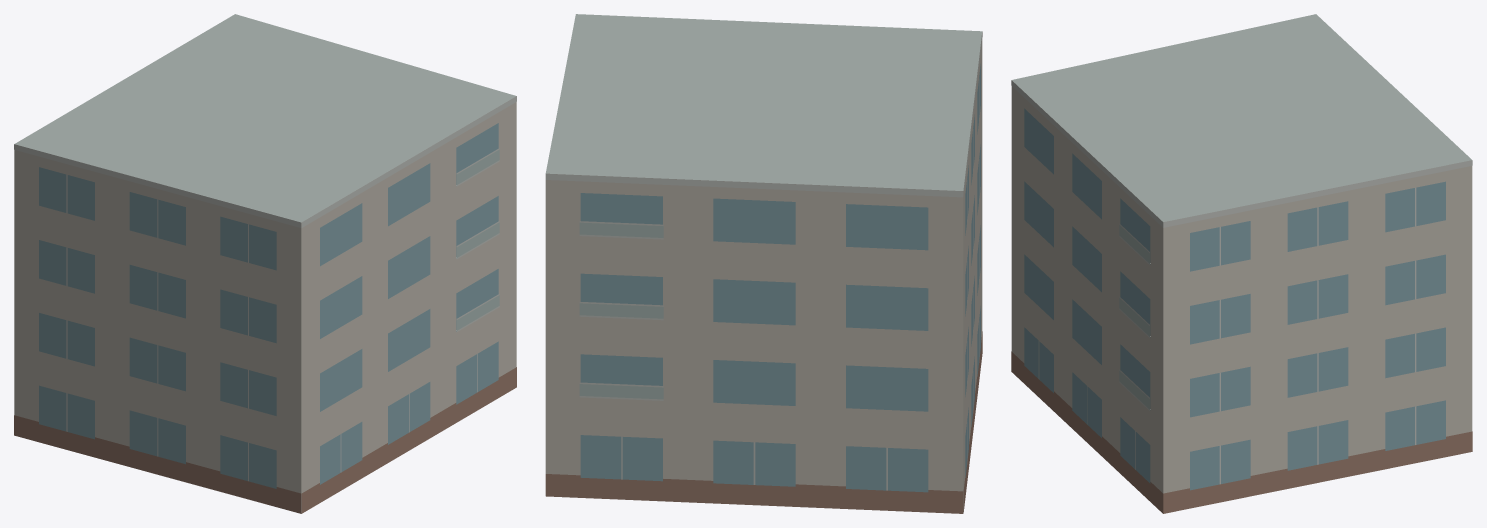
Rendered from survey-upis-32745676.glb.
The picture shows the model from 3 angles, left to right: view 1: azimuth 30°, elevation 25°; view 2: azimuth 150°, elevation 25°; view 3: azimuth 270°, elevation 25°; orthographic projection. The views are drawn at different scales.
Parts seen in each view (by area): view 1: survey-upis-32745676.tmp; view 2: survey-upis-32745676.tmp; view 3: survey-upis-32745676.tmp.
Part boxes in pixels (x1=…): survey-upis-32745676.tmp: x1=14, y1=14, x2=516, y2=513; survey-upis-32745676.tmp: x1=545, y1=14, x2=982, y2=513; survey-upis-32745676.tmp: x1=1011, y1=14, x2=1472, y2=513.
Bounding box in the file's own units: 19.15 × 12.5 × 17.92.
